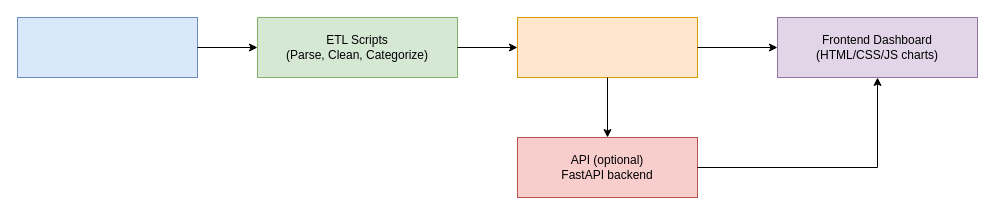
Some shapes in this 995 by 215 pixel diagram are drawn without their labels. Each missing label, with the box of its shape:
Raw MoMo SMS Data (XML file): (16, 16, 198, 78)
SQLite Database: (516, 16, 698, 78)
